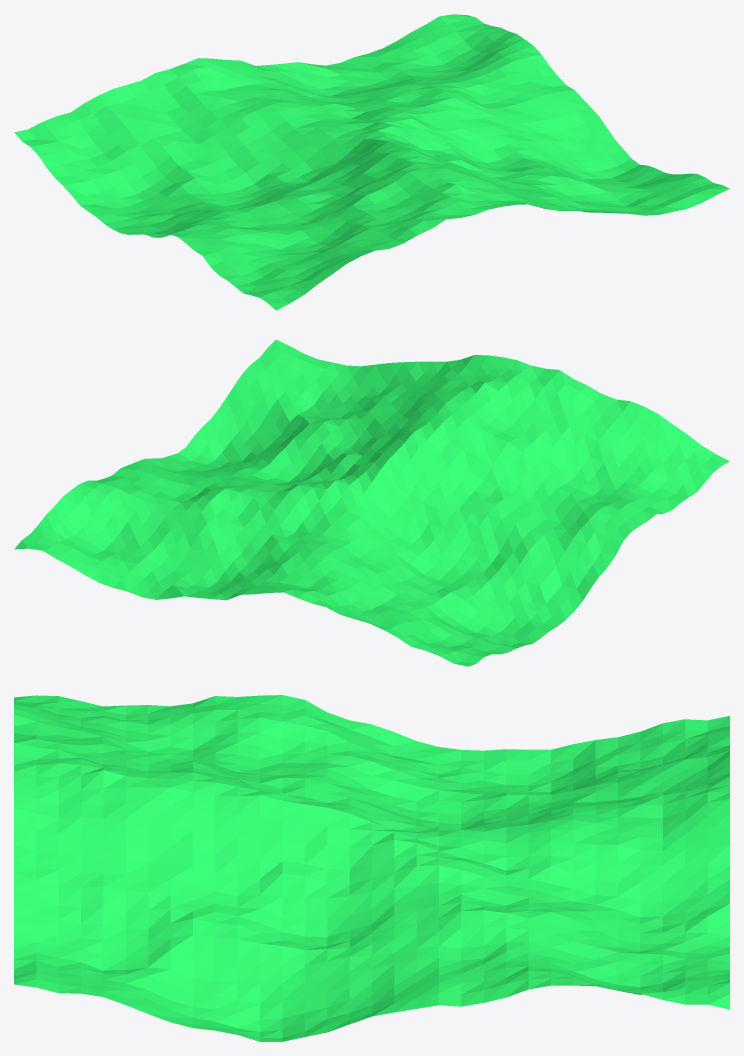
File: low-poly-terrain.glb
3 renders of one model, top to bottom at view 1: azimuth 30°, elevation 25°; view 2: azimuth 150°, elevation 25°; view 3: azimuth 270°, elevation 25°, orthographic. The views are drawn at different scales.
Visible parts, largest first — view 1: Plane; view 2: Plane; view 3: Plane.
Part boxes in pixels (x1,y1,x2,y2): Plane: (14, 14, 729, 310); Plane: (14, 339, 729, 666); Plane: (14, 695, 729, 1041).
Size of the model in its own units: 617 by 123 by 617.
